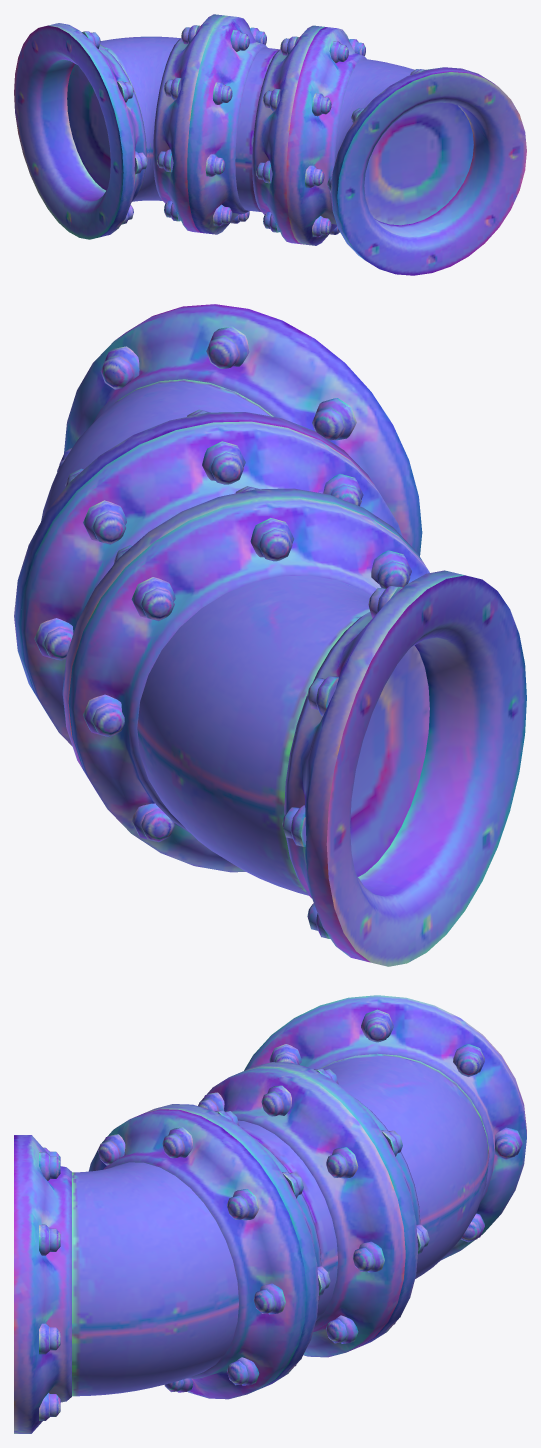
File: Pipe_D160_A_Concave_Angled_400_A.fbx
3 views of the same model, one above another, from view 1: azimuth 30°, elevation 25°; view 2: azimuth 150°, elevation 25°; view 3: azimuth 270°, elevation 25° (orthographic). The views are drawn at different scales.
Parts seen in each view (by area): view 1: Geom_Pipe_D160_A_Concave_Angled_400_A_LOD00; view 2: Geom_Pipe_D160_A_Concave_Angled_400_A_LOD00; view 3: Geom_Pipe_D160_A_Concave_Angled_400_A_LOD00.
Part boxes in pixels (x1,y1,x2,y2): Geom_Pipe_D160_A_Concave_Angled_400_A_LOD00: (14,14,526,275); Geom_Pipe_D160_A_Concave_Angled_400_A_LOD00: (14,304,526,966); Geom_Pipe_D160_A_Concave_Angled_400_A_LOD00: (14,995,526,1433).
Size of what is drawn, in the model's own units: 282 by 282 by 165.
